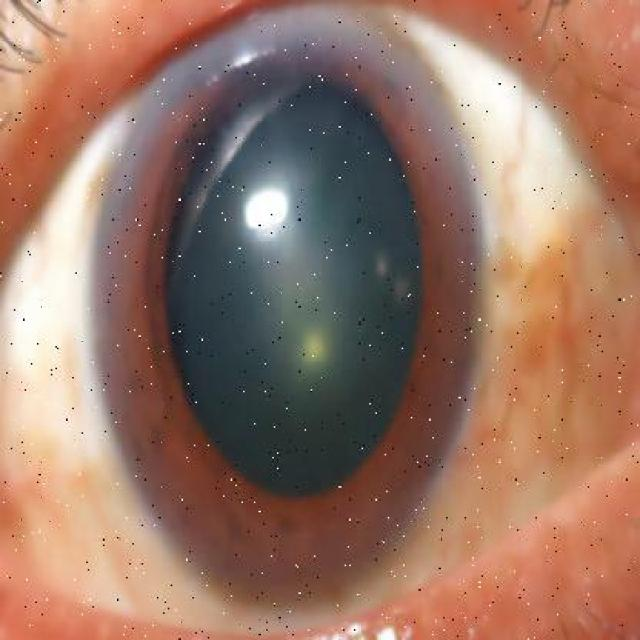Cataract: (86, 6, 479, 620)
